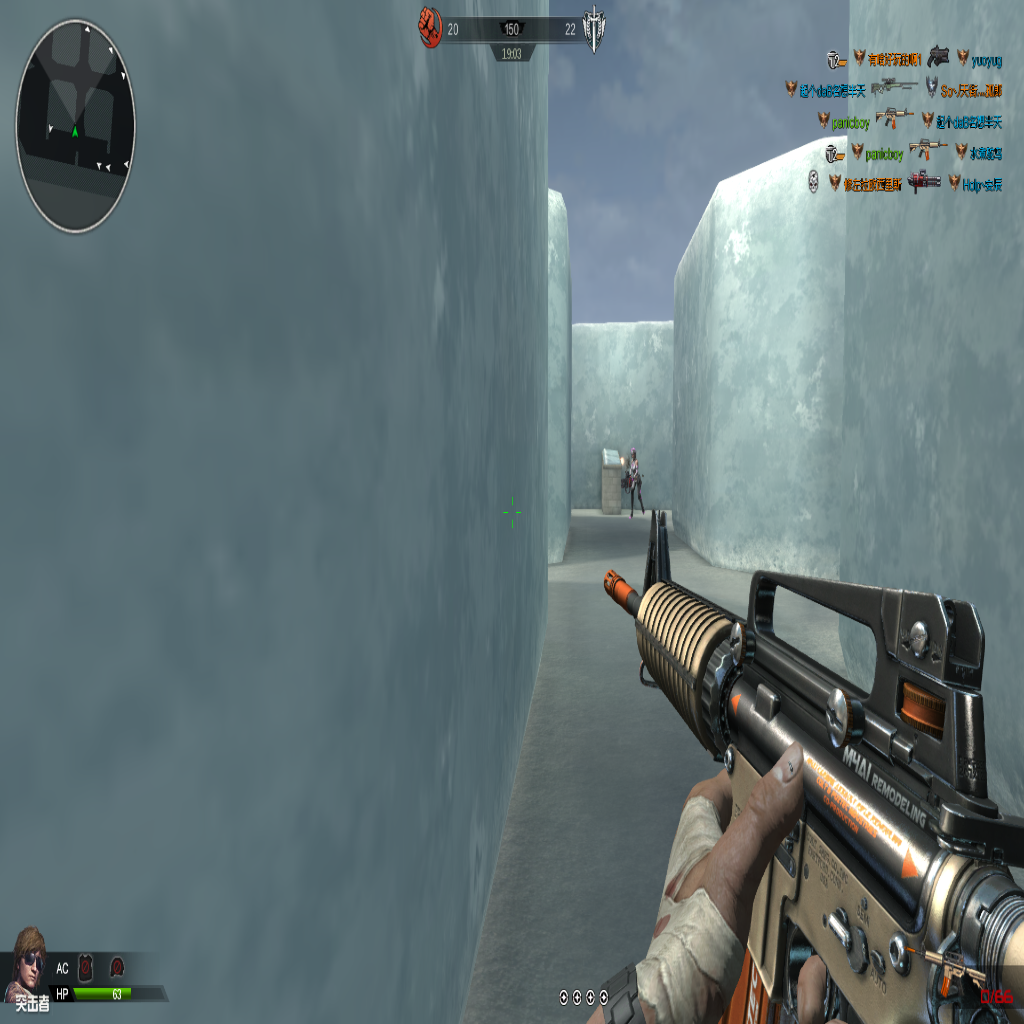tt: (626, 451, 645, 518)
